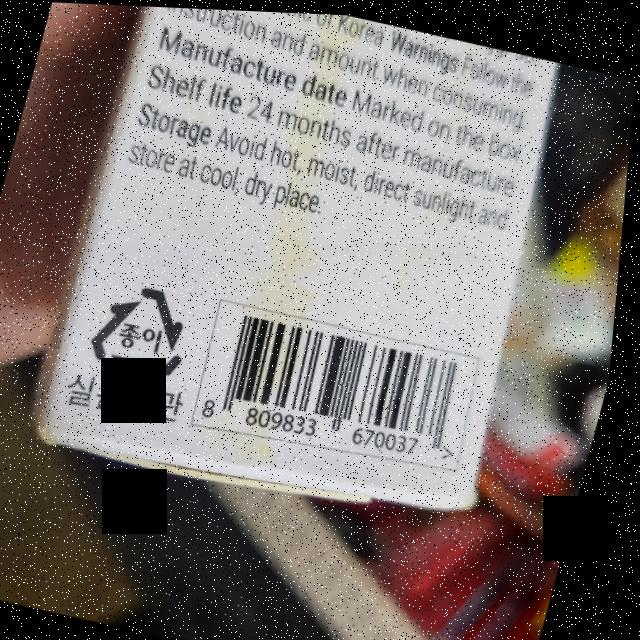Paper: (86, 266, 212, 394)
